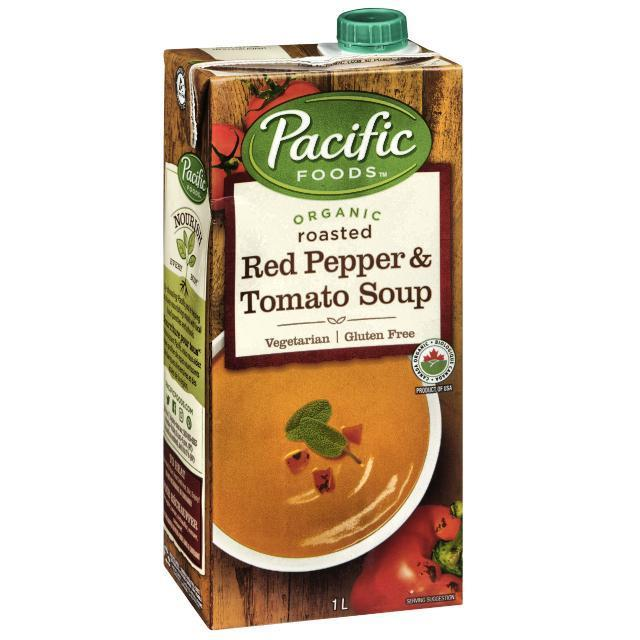cardboard: (162, 41, 464, 630)
